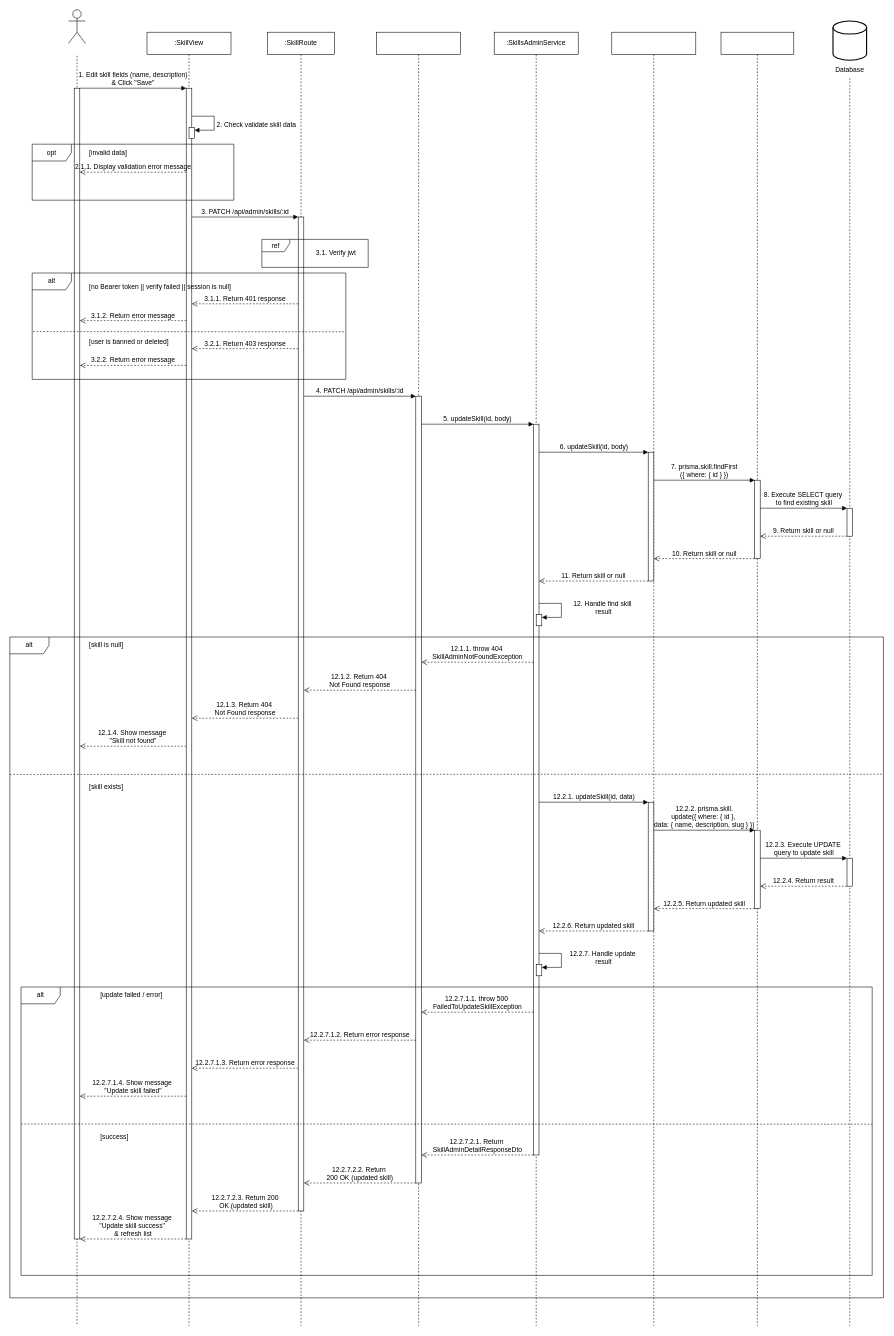
Some shapes in this 894 by 1336 pixel diagram are drawn without their labels. Each missing label, with the box of its shape:
:PrismaService: (720, 32, 794, 1326)
:SkillsAdminController: (376, 32, 461, 1326)
:SkillsAdminRepository: (611, 32, 696, 1326)
Admin: (68, 9, 85, 43)
